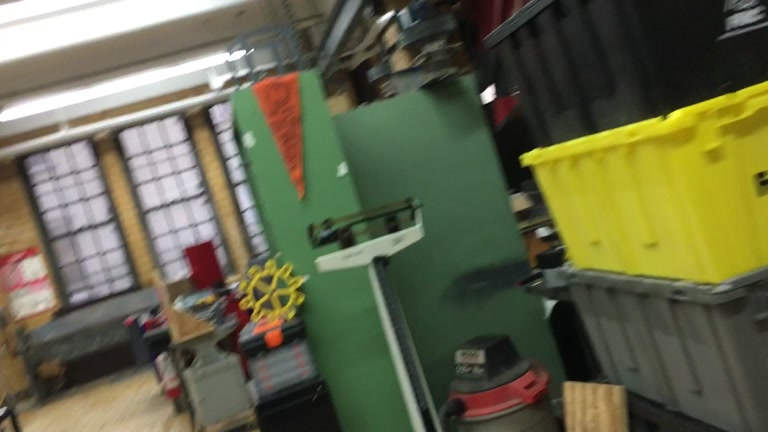gear: (238, 259, 306, 327)
